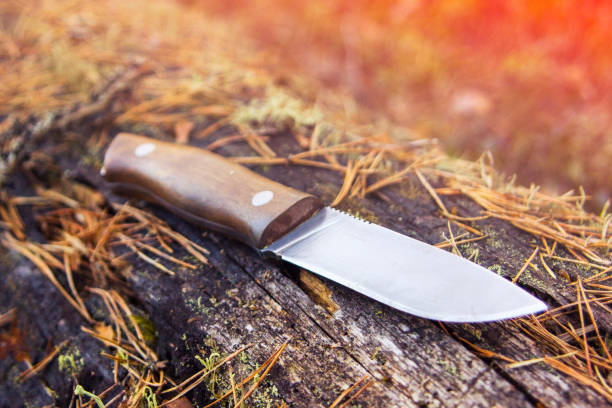knife: (94, 128, 552, 329)
